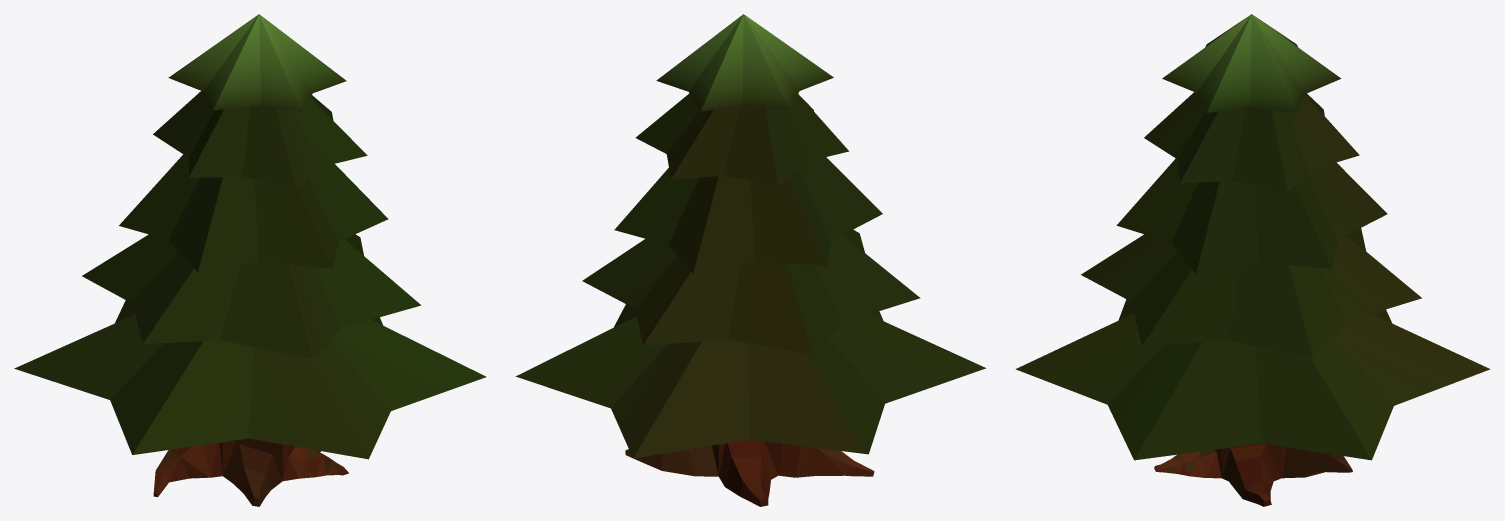
File: pineTree.glb
3 views of the same model, side by side, from view 1: azimuth 30°, elevation 25°; view 2: azimuth 150°, elevation 25°; view 3: azimuth 270°, elevation 25° (orthographic).
Parts seen in each view (by area): view 1: Tree; view 2: Tree; view 3: Tree.
Boxes of the visible parts, left/top/right/bottom form: Tree: left=14, top=14, right=486, bottom=506; Tree: left=515, top=14, right=985, bottom=506; Tree: left=1015, top=14, right=1490, bottom=506.
Bounding box in the file's own units: 2.45 × 2.95 × 2.83.
Materials: 1 (1 with a texture image).
